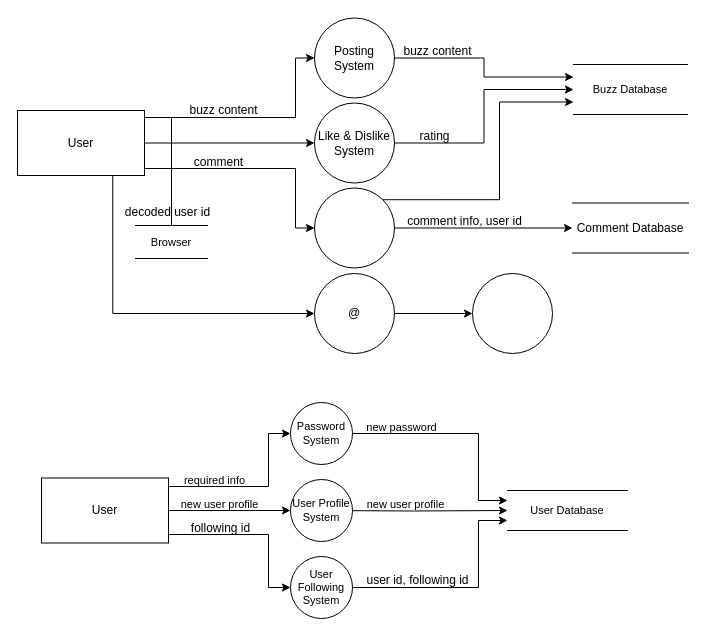
This 706x636 diagram has some shape labels left out. Here are the shapes that lost their labels. From the top down, the centre of each, then its label:
At [354,227]: "Comment System".
At [512,313]: "Mention System".
